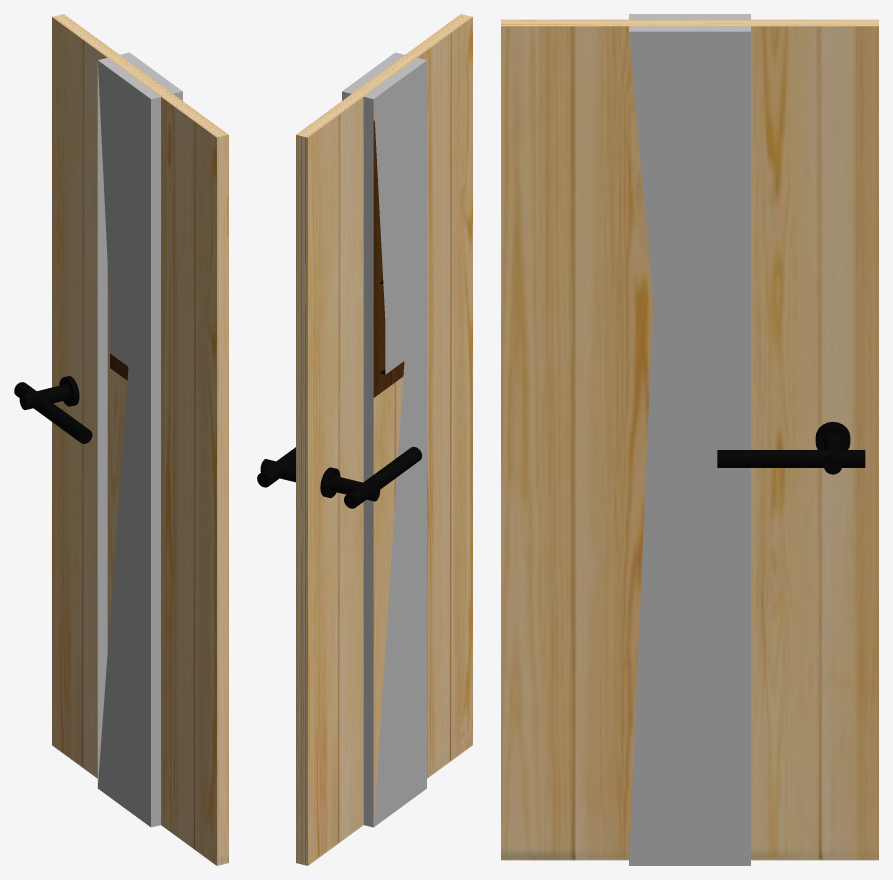
File: IVRC Door.obj
The picture shows the model from 3 angles, left to right: view 1: azimuth 30°, elevation 25°; view 2: azimuth 150°, elevation 25°; view 3: azimuth 270°, elevation 25°; orthographic projection. The views are drawn at different scales.
Parts seen in each view (by area): view 1: group22 pasted__pCube79, group16_pasted__group8_pasted__pasted__pCube81 group22, pCylinder17, pasted__pCylinder17 group20; view 2: group22 pasted__pCube79, group16_pasted__group8_pasted__pasted__pCube81 group22, group22 pCube80, pCylinder17, pasted__pCylinder17 group20, pasted__pCylinder17 group21; view 3: group22 pasted__pCube79, group16_pasted__group8_pasted__pasted__pCube81 group22, pasted__pCylinder17 group21.
Boxes of the visible parts, box(x1,y1,x2,y2) form: group22 pasted__pCube79: box(52, 14, 228, 865); group16_pasted__group8_pasted__pasted__pCube81 group22: box(97, 52, 182, 827); pCylinder17: box(14, 382, 92, 443); pasted__pCylinder17 group20: box(19, 384, 70, 409); group22 pasted__pCube79: box(296, 14, 472, 865); group16_pasted__group8_pasted__pasted__pCube81 group22: box(342, 52, 426, 827); group22 pCube80: box(373, 120, 404, 397); pCylinder17: box(344, 447, 421, 508); pasted__pCylinder17 group20: box(260, 459, 380, 501); pasted__pCylinder17 group21: box(257, 447, 295, 487); group22 pasted__pCube79: box(501, 19, 878, 860); group16_pasted__group8_pasted__pasted__pCube81 group22: box(629, 14, 750, 865); pasted__pCylinder17 group21: box(717, 450, 865, 467).
Bounding box in the file's own units: 2 × 12.43 × 5.11.
4 materials, 2 textured.
